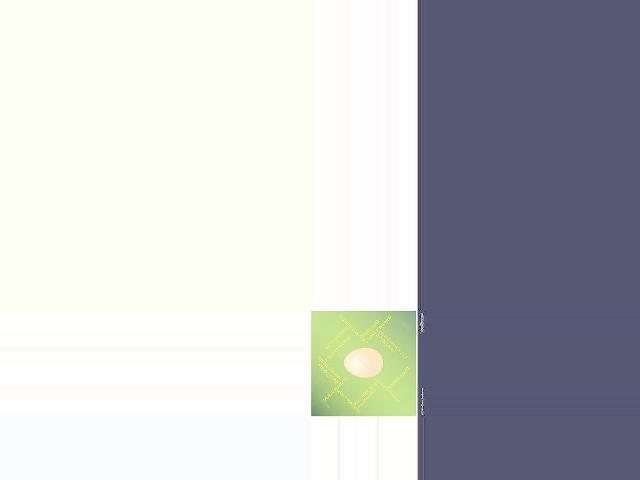egg: (344, 348, 382, 378)
